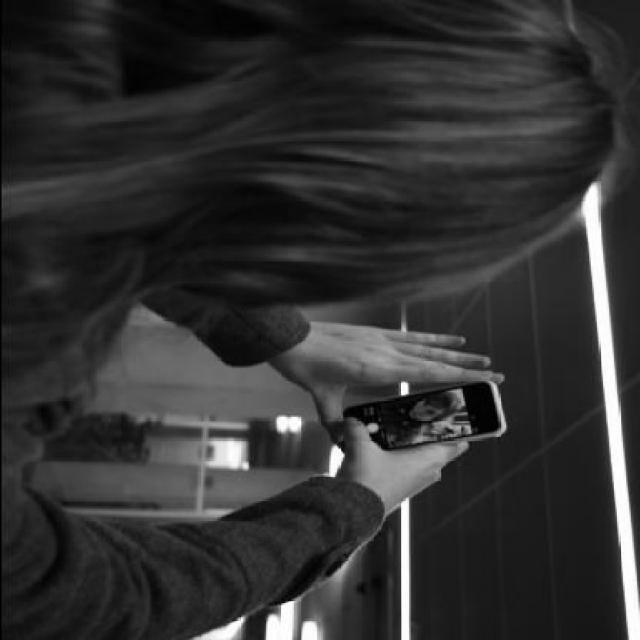fake: (334, 377, 504, 457)
